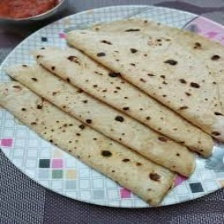roti: (1, 17, 224, 206)
